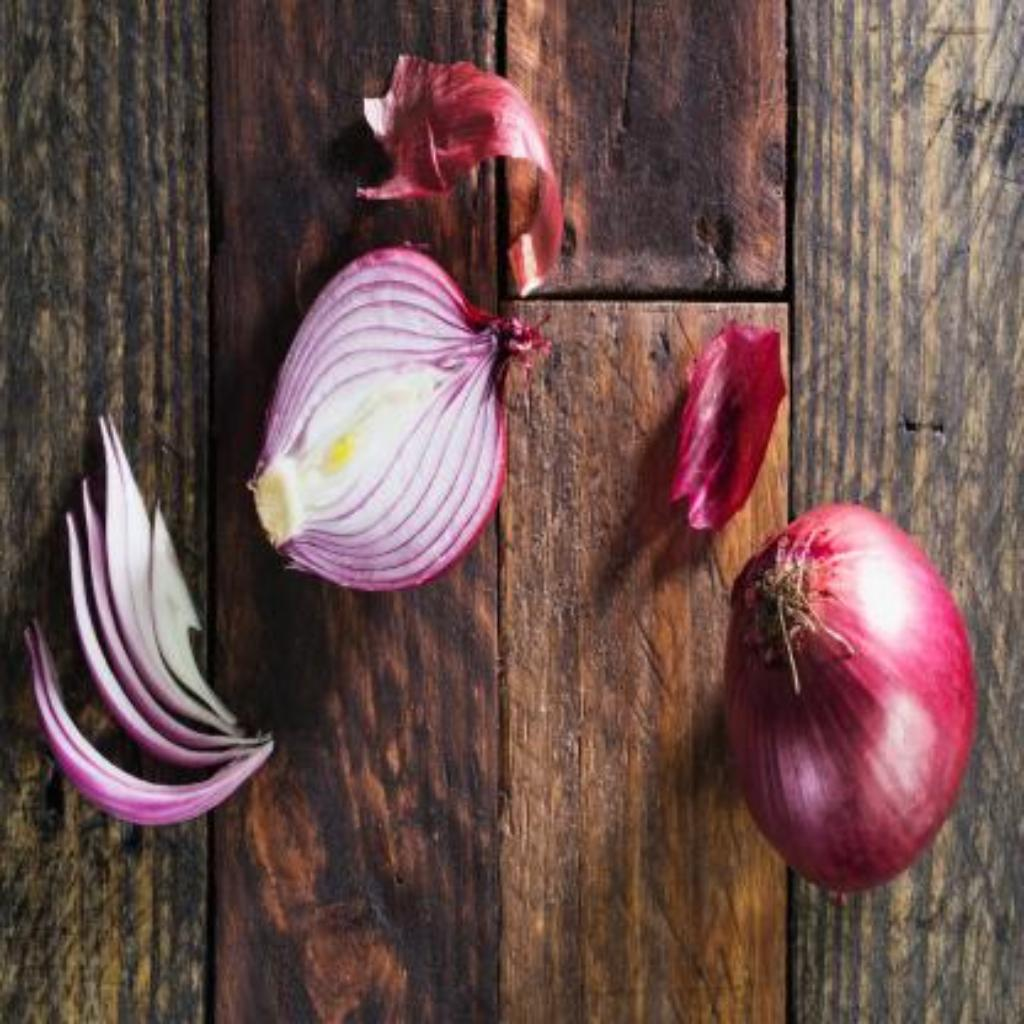Onion: (726, 505, 980, 897)
